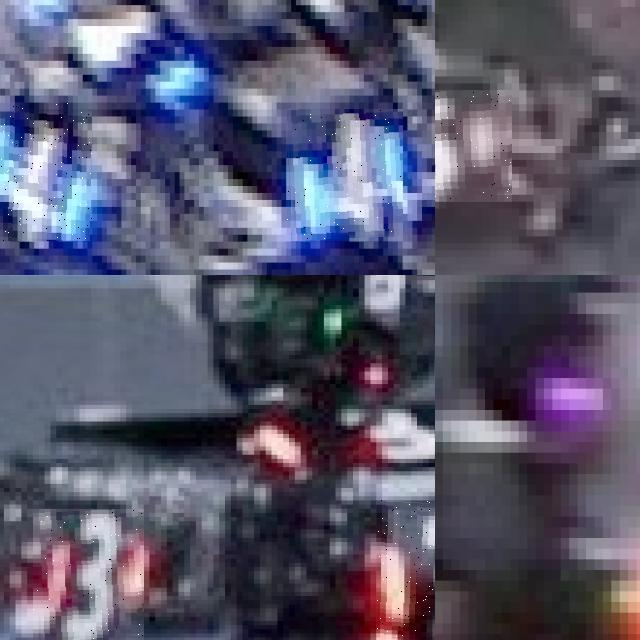B4: (286, 110, 403, 242), (0, 102, 92, 241)
R3: (33, 508, 143, 640), (271, 396, 435, 471), (376, 500, 435, 640)
R5: (435, 90, 511, 201)
